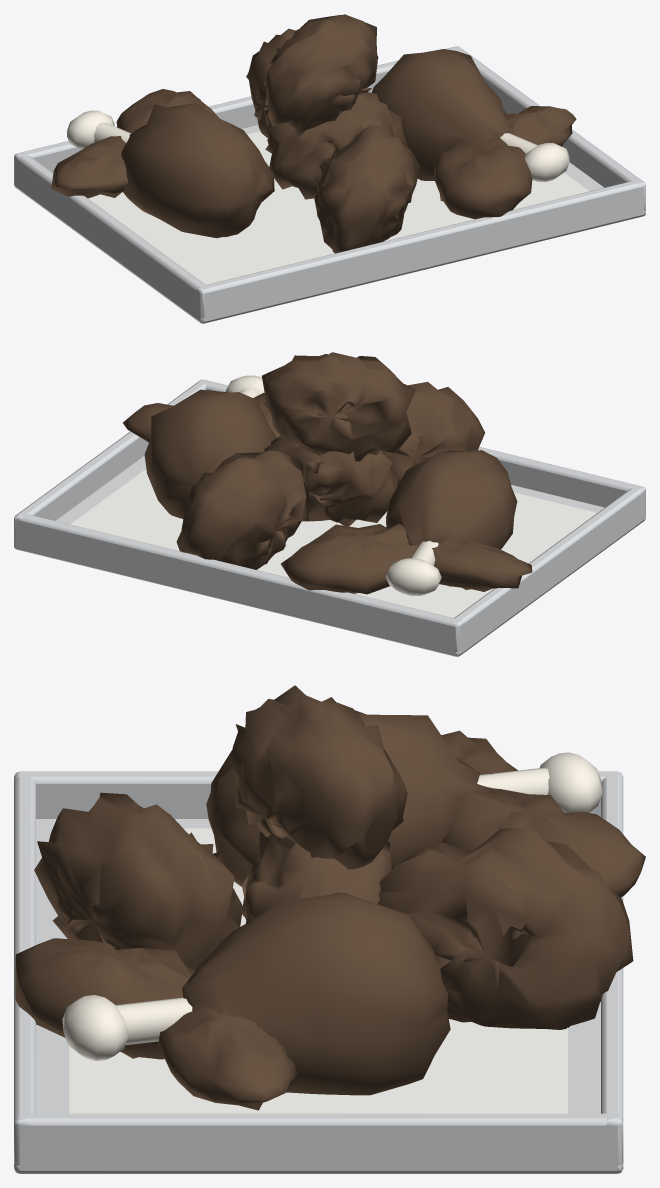
The model's file is Chicken_Burnt.fbx.
The picture shows the model from 3 angles, top to bottom: view 1: azimuth 30°, elevation 25°; view 2: azimuth 150°, elevation 25°; view 3: azimuth 270°, elevation 25°; orthographic projection. The views are drawn at different scales.
Visible parts, largest first — view 1: Chicken_Burnt; view 2: Chicken_Burnt; view 3: Chicken_Burnt.
Boxes of the visible parts, x1,y1,x2,y2 form: Chicken_Burnt: [14, 14, 645, 323]; Chicken_Burnt: [14, 352, 645, 656]; Chicken_Burnt: [14, 685, 645, 1173].
Bounding box in the file's own units: 0.3107 × 0.1219 × 0.2282.
